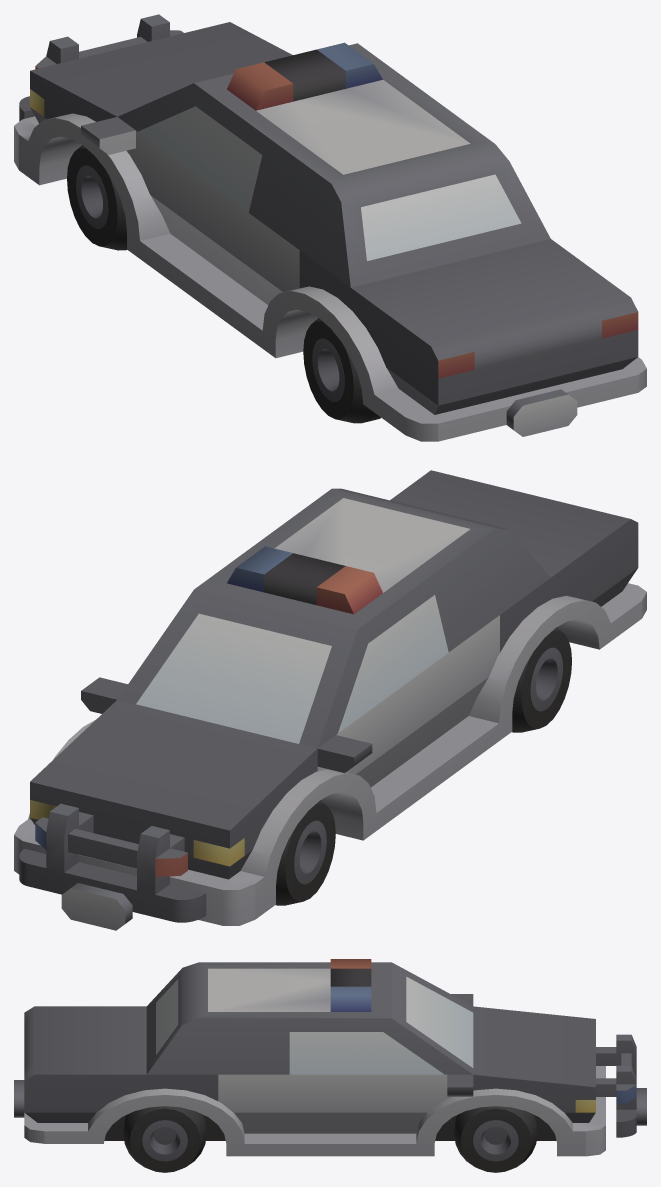
File: police.glb
3 renders of one model, top to bottom at view 1: azimuth 30°, elevation 25°; view 2: azimuth 150°, elevation 25°; view 3: azimuth 270°, elevation 25°, orthographic. The views are drawn at different scales.
Visible parts, largest first — view 1: body, wheel-back-left, wheel-front-left, grill; view 2: body, grill, wheel-front-left, wheel-back-left; view 3: body, wheel-back-right, wheel-front-right, grill.
Part boxes in pixels (x1=…): body: x1=14, y1=22, x2=646, y2=441; wheel-back-left: x1=303, y1=318, x2=380, y2=423; wheel-front-left: x1=67, y1=145, x2=126, y2=250; grill: x1=19, y1=14, x2=183, y2=121; body: x1=14, y1=470, x2=646, y2=925; grill: x1=19, y1=803, x2=206, y2=930; wheel-front-left: x1=276, y1=800, x2=335, y2=905; wheel-back-left: x1=512, y1=627, x2=571, y2=732; body: x1=14, y1=959, x2=605, y2=1156; wheel-back-right: x1=123, y1=1106, x2=206, y2=1172; wheel-front-right: x1=454, y1=1106, x2=537, y2=1172; grill: x1=596, y1=1034, x2=646, y2=1137.
Size of the model in its own units: 1.9 by 1.56 by 5.46.
Materials: 1 (1 with a texture image).
